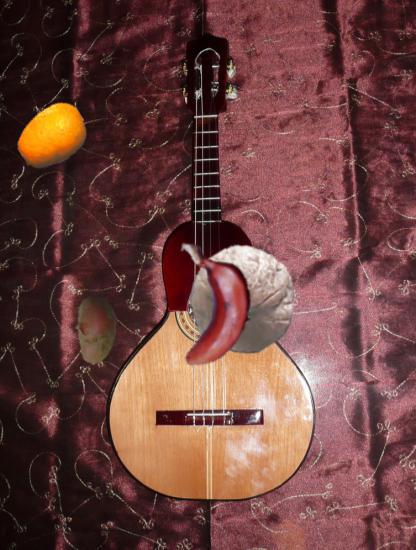Banana: (151, 246, 275, 370)
Kumquats: (16, 100, 88, 172)
Potato: (61, 295, 131, 365)
Walnut: (187, 244, 299, 356)
